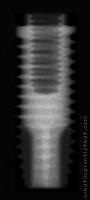Keystone Dental: (14, 13, 78, 192)
